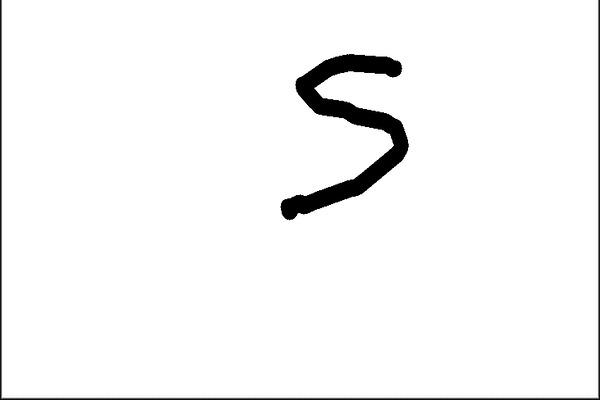S: (277, 49, 414, 221)
